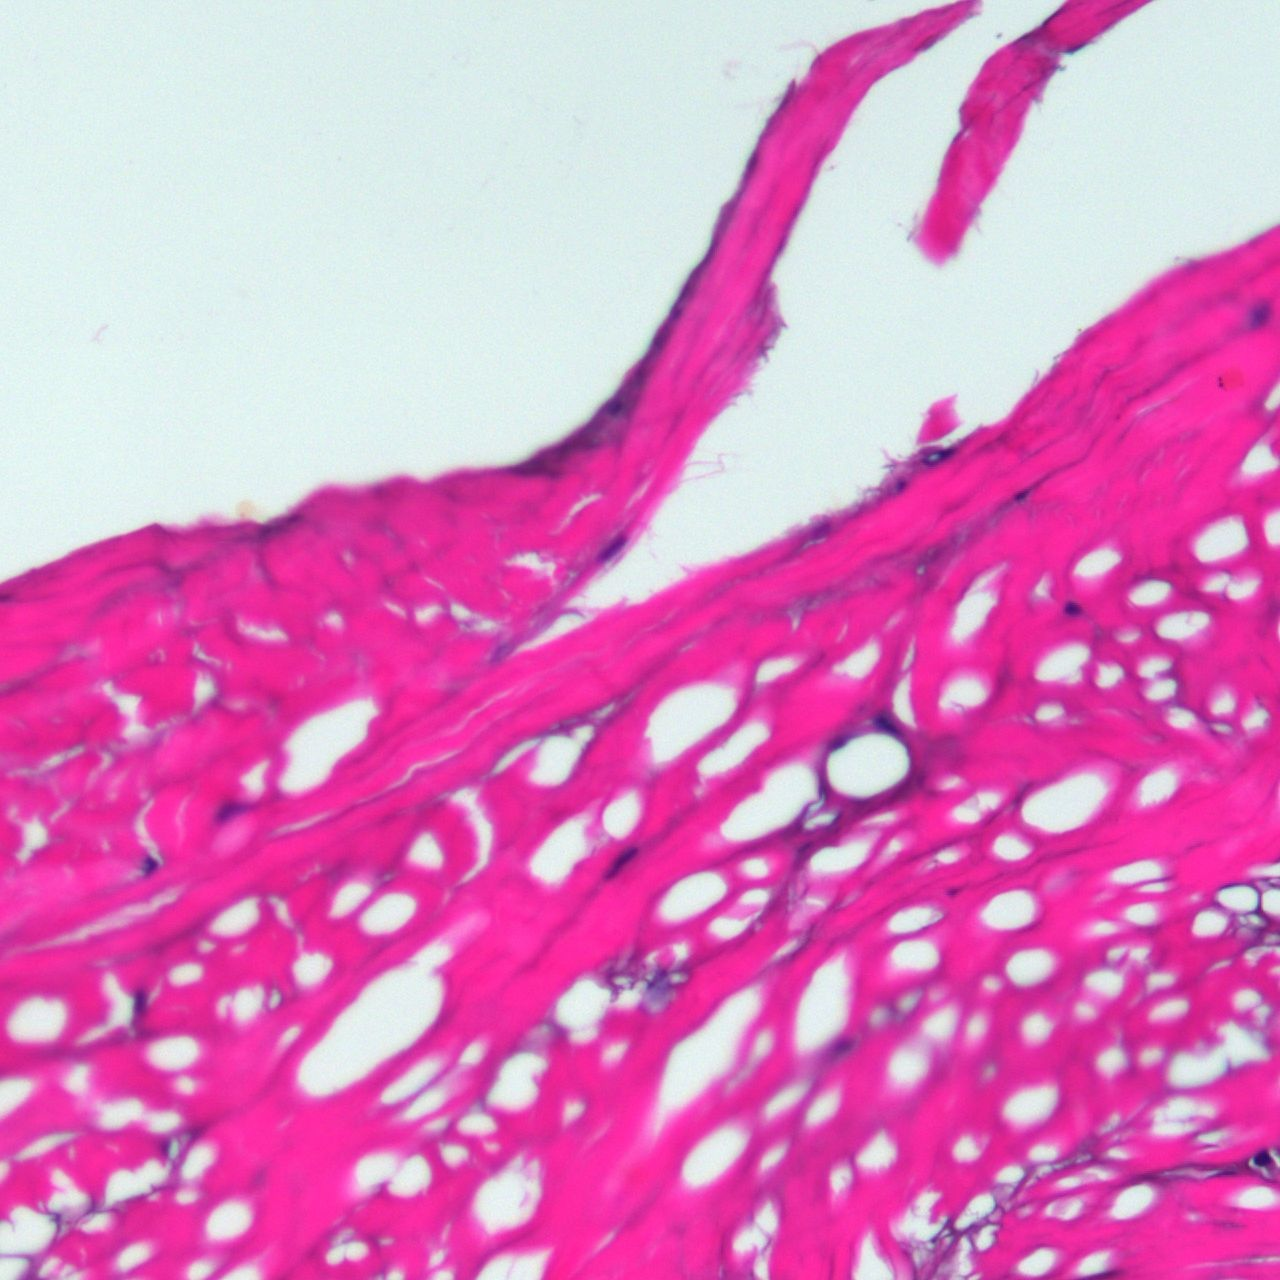dust: (234, 499, 254, 516)
nucleus-HE: (597, 836, 647, 881), (209, 789, 259, 827), (1240, 295, 1277, 333), (868, 711, 909, 745), (918, 438, 957, 473), (596, 532, 629, 565), (1008, 481, 1034, 506), (131, 988, 147, 1016), (143, 855, 159, 879), (1063, 598, 1082, 617), (1252, 1150, 1274, 1166), (831, 733, 847, 749)
